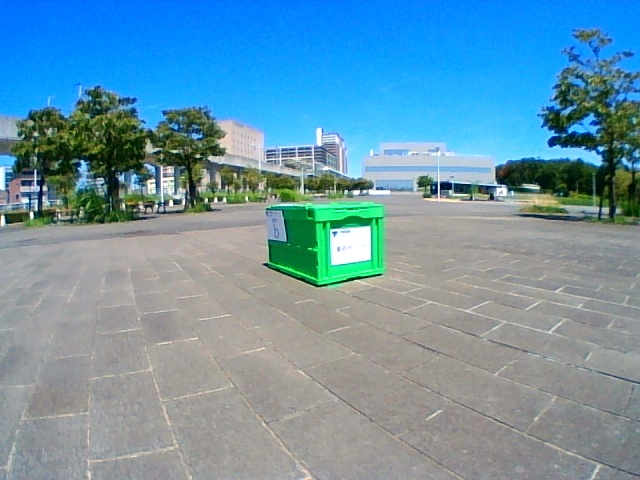green_box: (266, 199, 384, 287)
tag_b: (267, 211, 283, 239)
